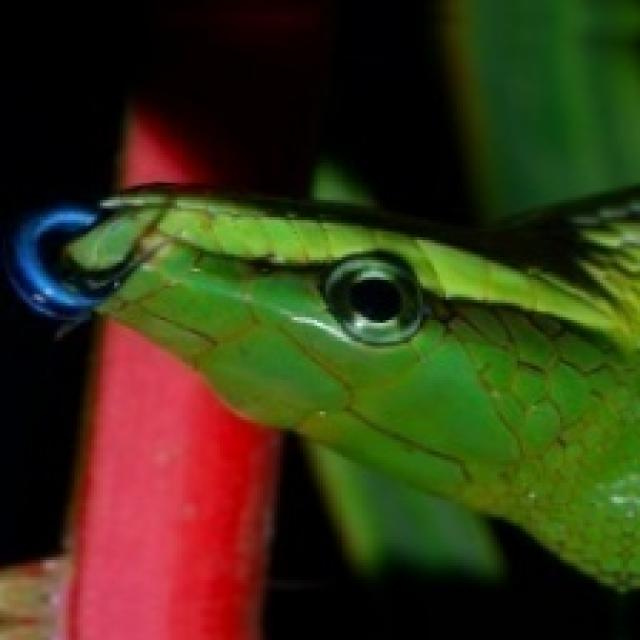red-tailed green ratsnake: (11, 186, 637, 589)
